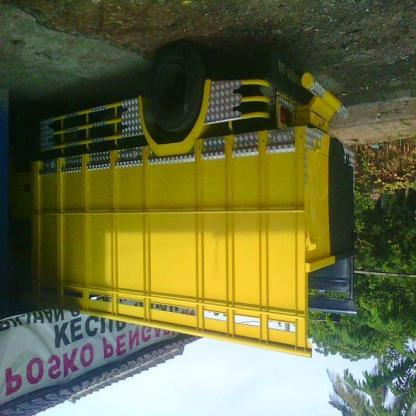truck: (3, 44, 358, 359)
